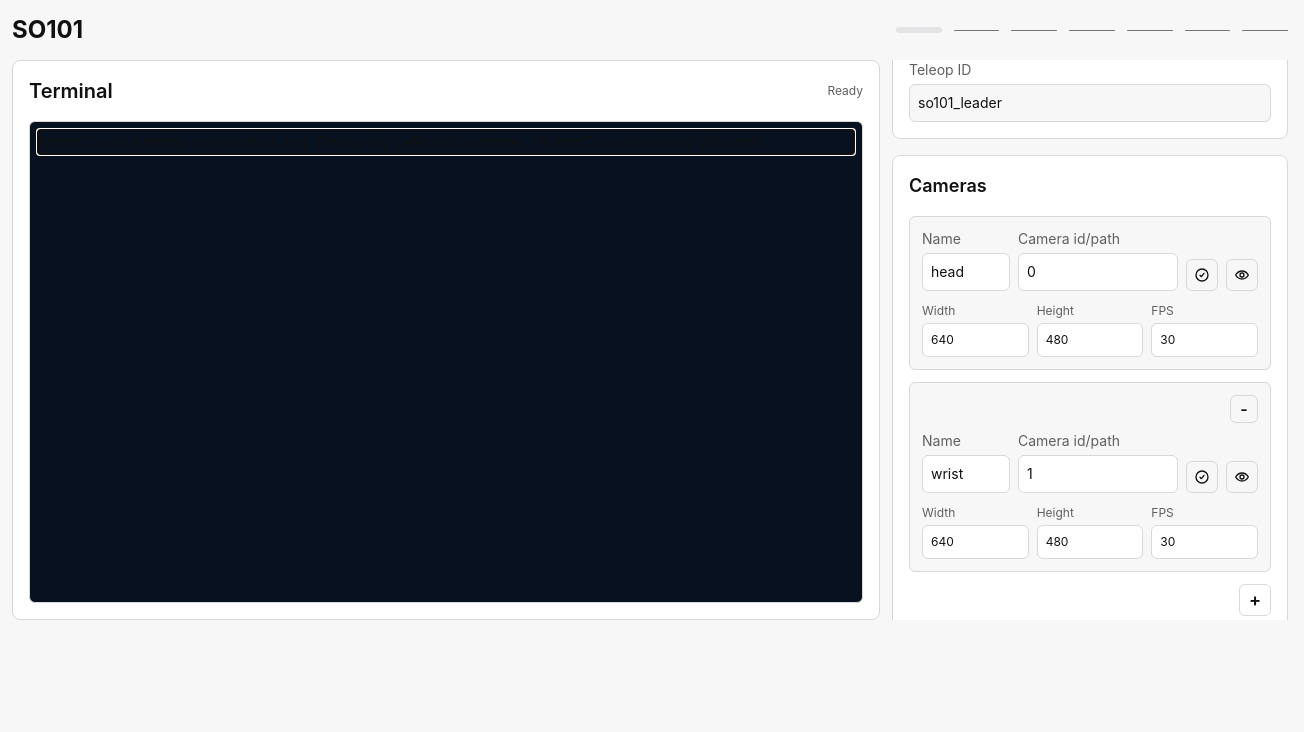
Scenario: SO101 terminal session › fills blank camera dimensions from a successful camera check
(page scrolled)
Check: the text with test id "mock-xterm" shows "RobotCloud terminal: /bin/zsh", box top-left (38, 132), bottom-right (762, 152)
Clear the 1st field labelled "Width" at (975, 340), box top-left (922, 323), bottom-right (1029, 357)
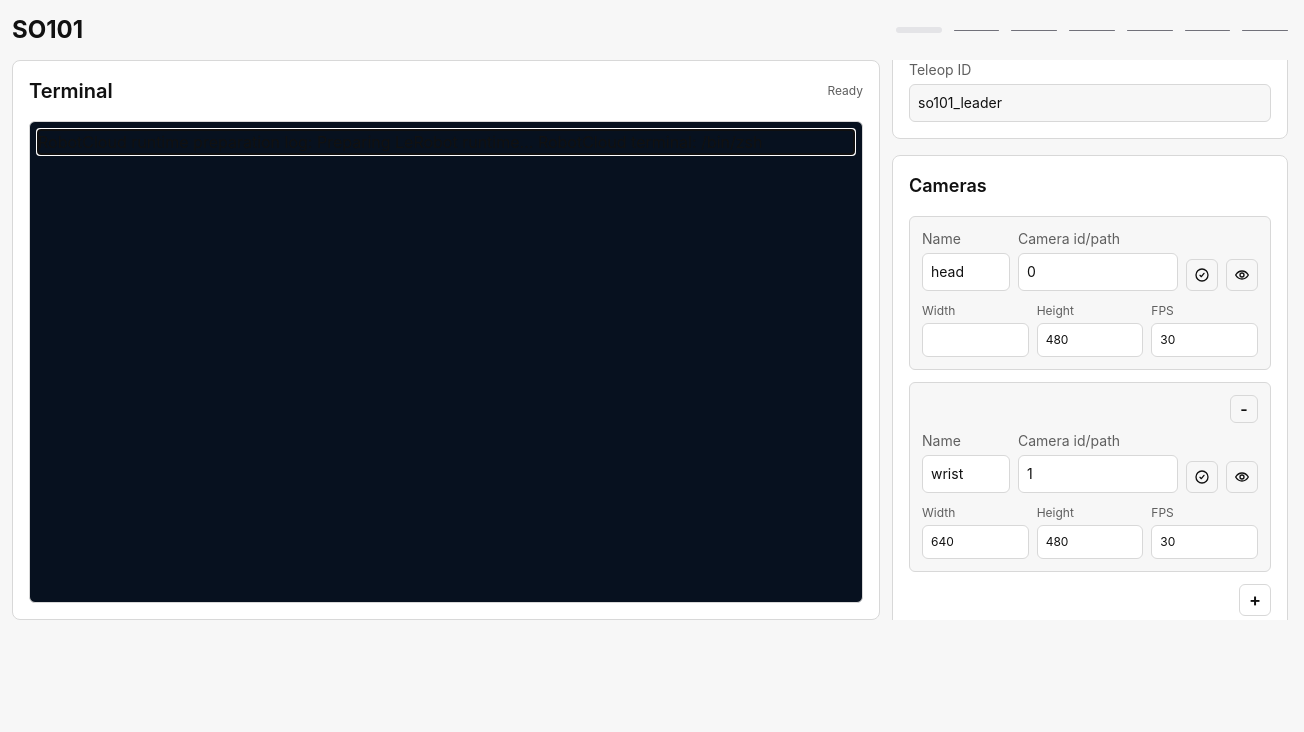
Clear the 1st field labelled "Height" at (1090, 340), box top-left (1037, 323), bottom-right (1143, 357)
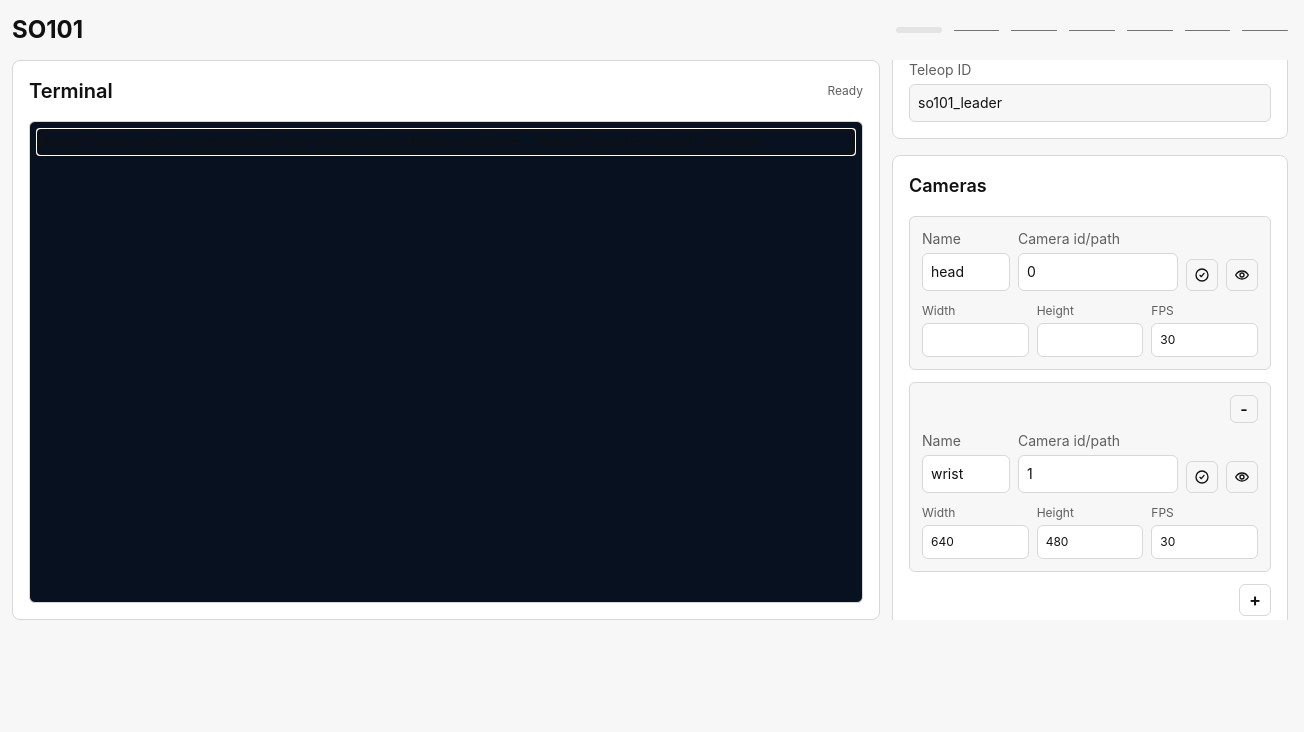
Click the 1st button named "Check".
click(1202, 275)  # box top-left (1186, 259), bottom-right (1218, 291)
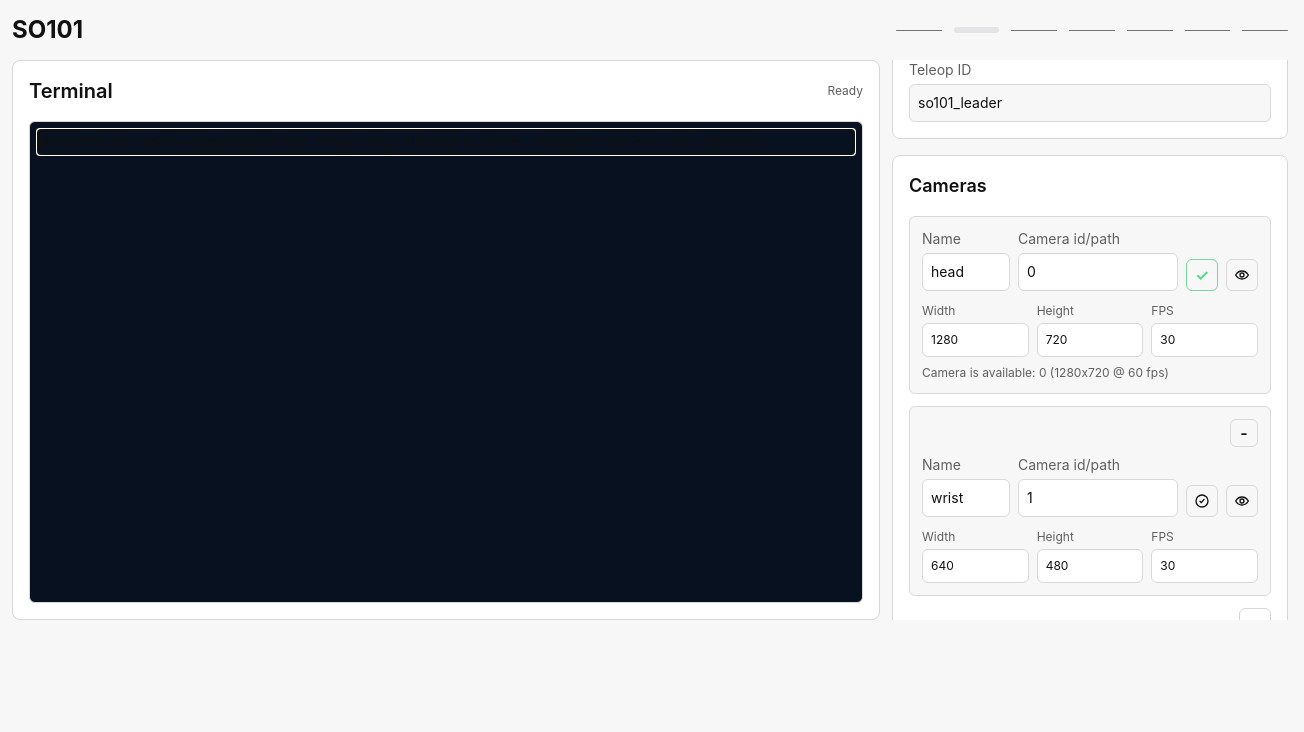
Check: the 1st field labelled "FPS" holds "30", box top-left (1151, 323), bottom-right (1258, 357)
Check: the 1st field labelled "Width" holds "1280", box top-left (922, 323), bottom-right (1029, 357)
Check: the 1st field labelled "Height" holds "720", box top-left (1037, 323), bottom-right (1143, 357)
